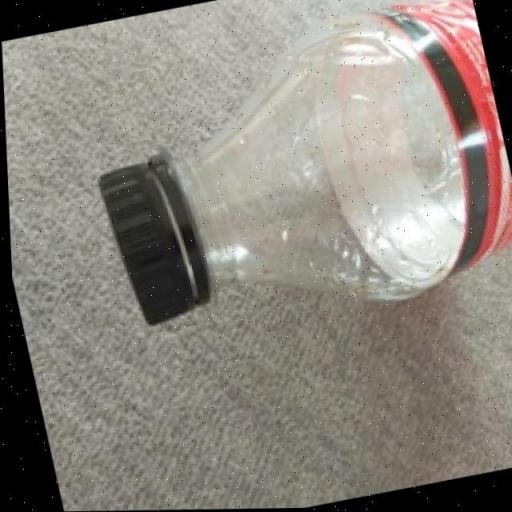plastic: (72, 0, 512, 350)
